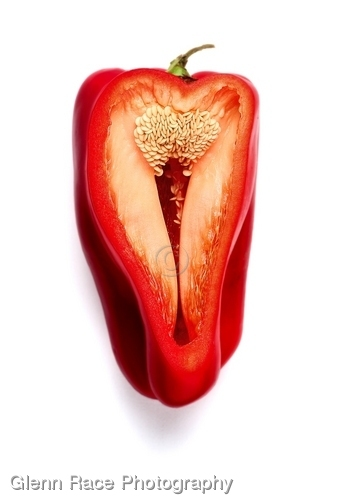capsicum: (72, 42, 260, 408)
